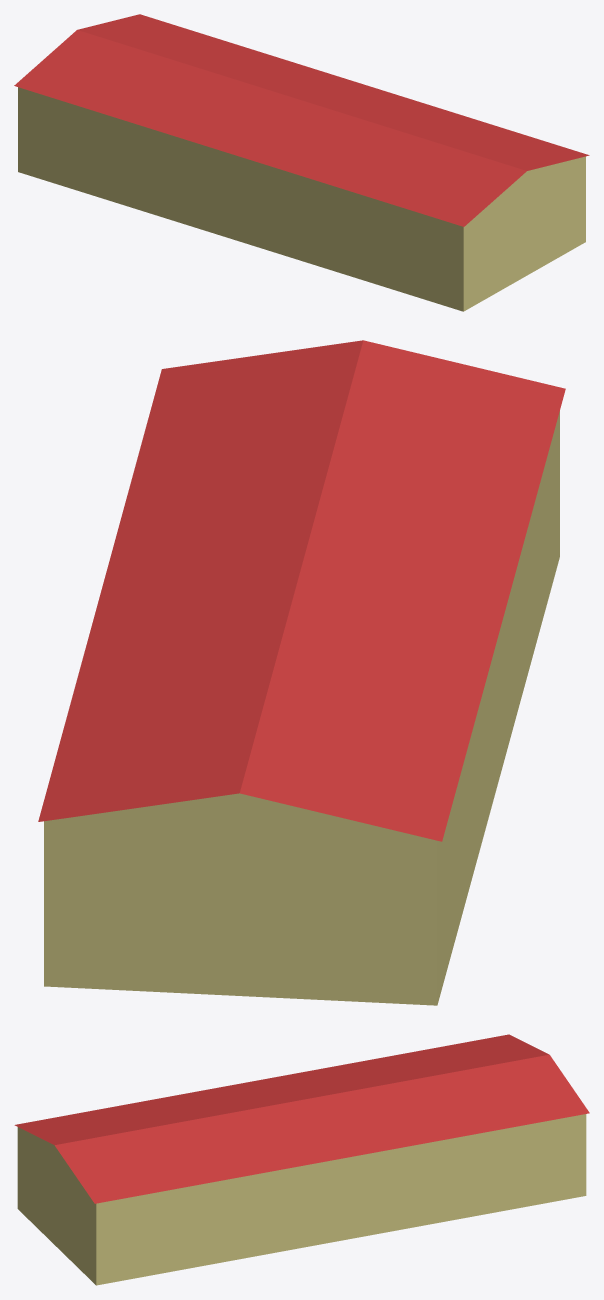
The picture shows the model from 3 angles, top to bottom: view 1: azimuth 30°, elevation 25°; view 2: azimuth 150°, elevation 25°; view 3: azimuth 270°, elevation 25°; orthographic projection. The views are drawn at different scales.
Bounding box in the file's own units: 37.51 × 53.88 × 10.57.
